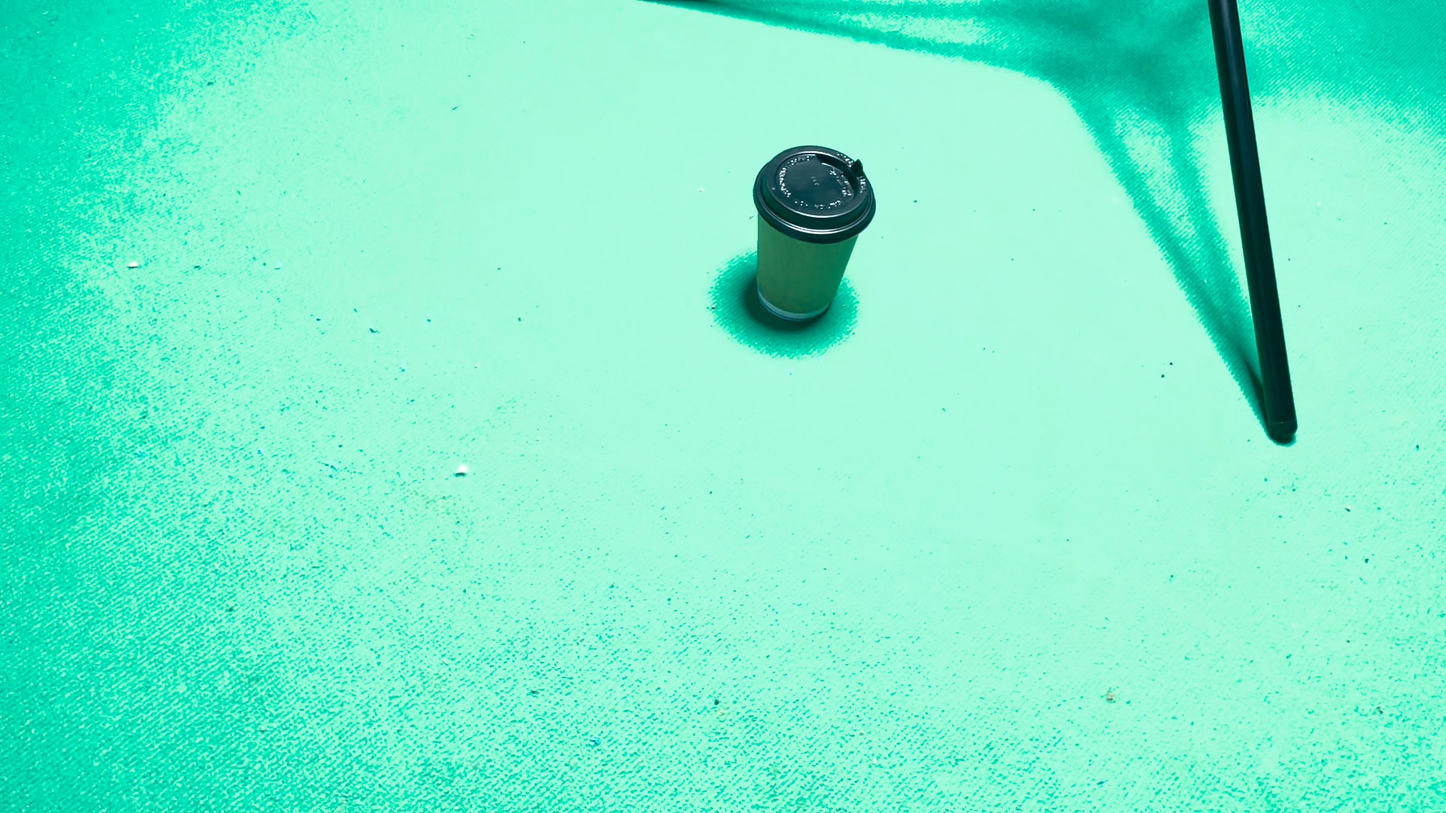cup: (737, 448, 832, 571)
